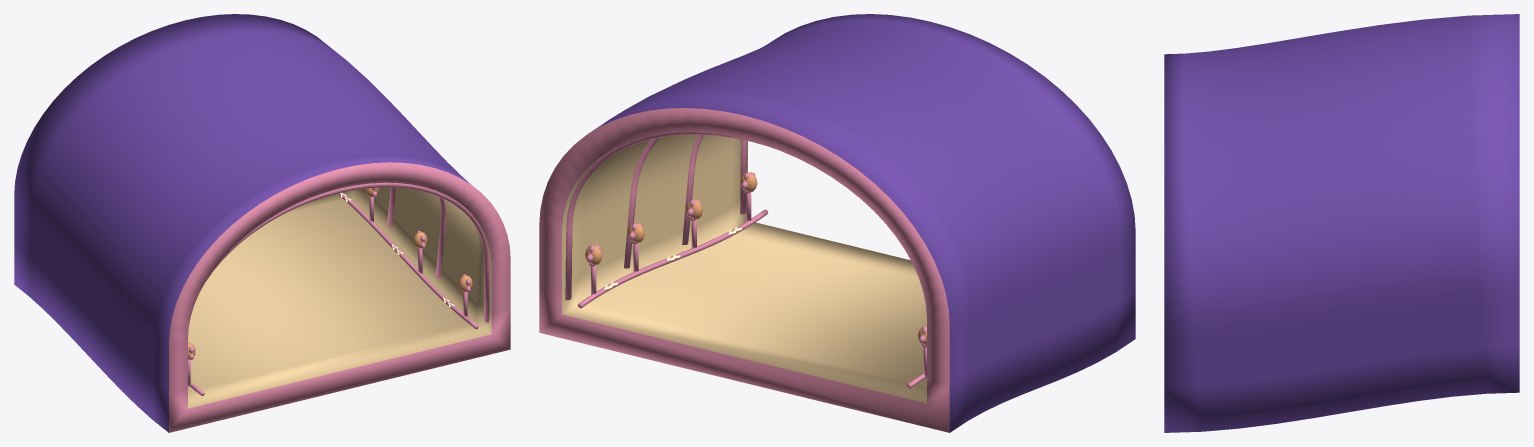
Rendered from grade_up.glb.
3 views of the same model, side by side, from view 1: azimuth 30°, elevation 25°; view 2: azimuth 150°, elevation 25°; view 3: azimuth 270°, elevation 25° (orthographic). The views are drawn at different scales.
Parts seen in each view (by area): view 1: TunnelGeometry; view 2: TunnelGeometry; view 3: TunnelGeometry.
Boxes of the visible parts, x1,y1,x2,y2 form: TunnelGeometry: (14, 14, 510, 432); TunnelGeometry: (539, 14, 1135, 432); TunnelGeometry: (1164, 14, 1519, 432).
Bounding box in the file's own units: 15.3 × 11.02 × 12.
5 materials, 2 textured.
